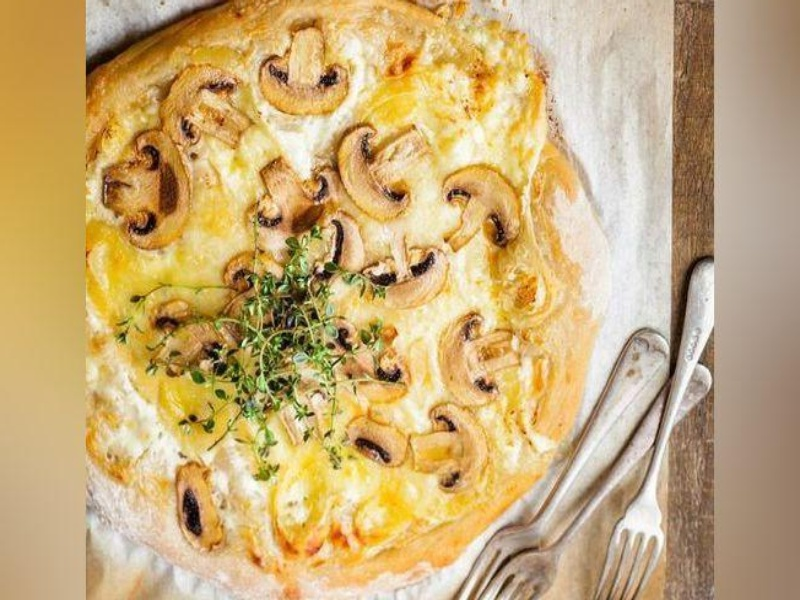champignon: (331, 116, 447, 224), (105, 129, 197, 253), (244, 155, 343, 269), (255, 23, 354, 124), (436, 159, 532, 261), (431, 311, 533, 403), (157, 62, 261, 149), (405, 402, 501, 496), (356, 228, 454, 312), (335, 409, 414, 476)
